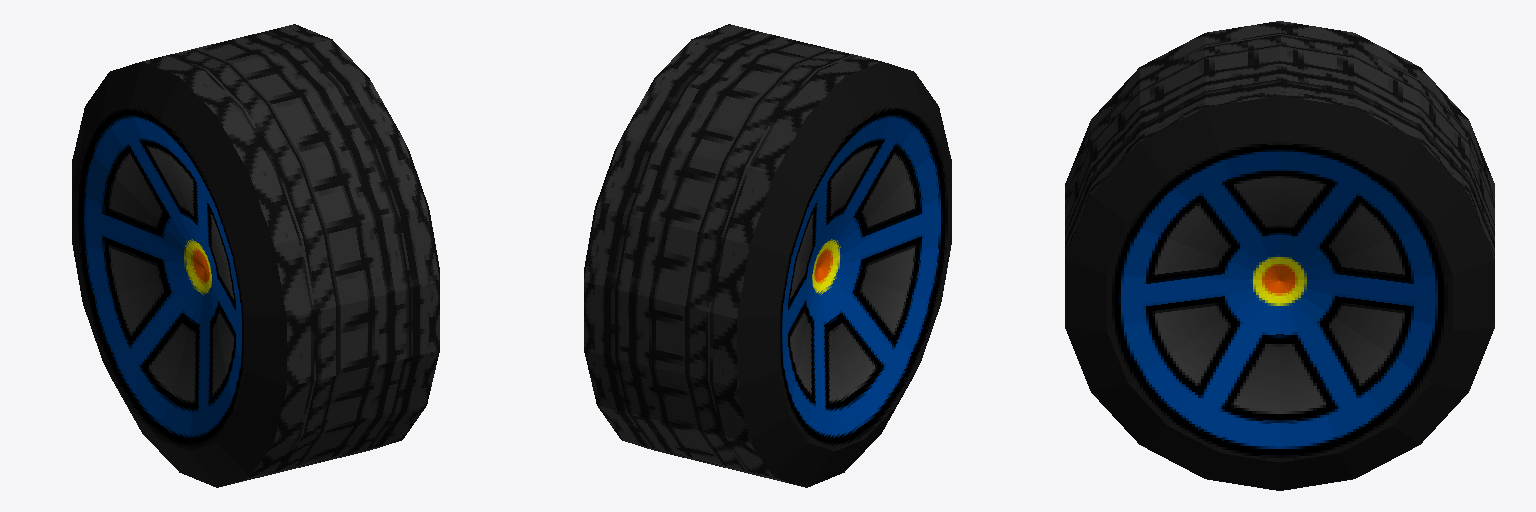
3 renders of one model, left to right at view 1: azimuth 30°, elevation 25°; view 2: azimuth 150°, elevation 25°; view 3: azimuth 270°, elevation 25°, orthographic.
Parts seen in each view (by area): view 1: wheel_Cylinder01x; view 2: wheel_Cylinder01x; view 3: wheel_Cylinder01x.
Part boxes in pixels (x1,y1,x2,y2): wheel_Cylinder01x: (72,24,439,487); wheel_Cylinder01x: (584,24,951,487); wheel_Cylinder01x: (1065,21,1494,490).
Bounding box in the file's own units: 30.68 × 59.69 × 58.78.
1 materials, 1 textured.